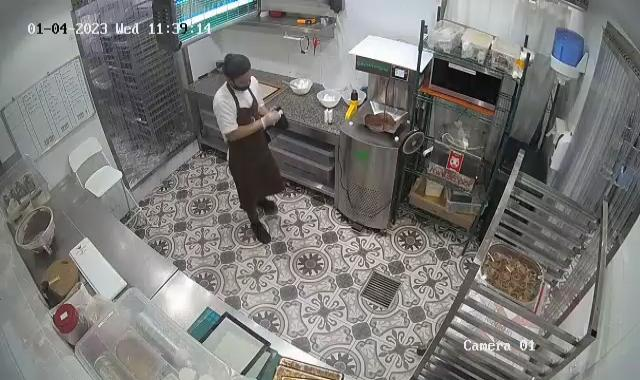no_hairnet: (219, 53, 254, 82)
